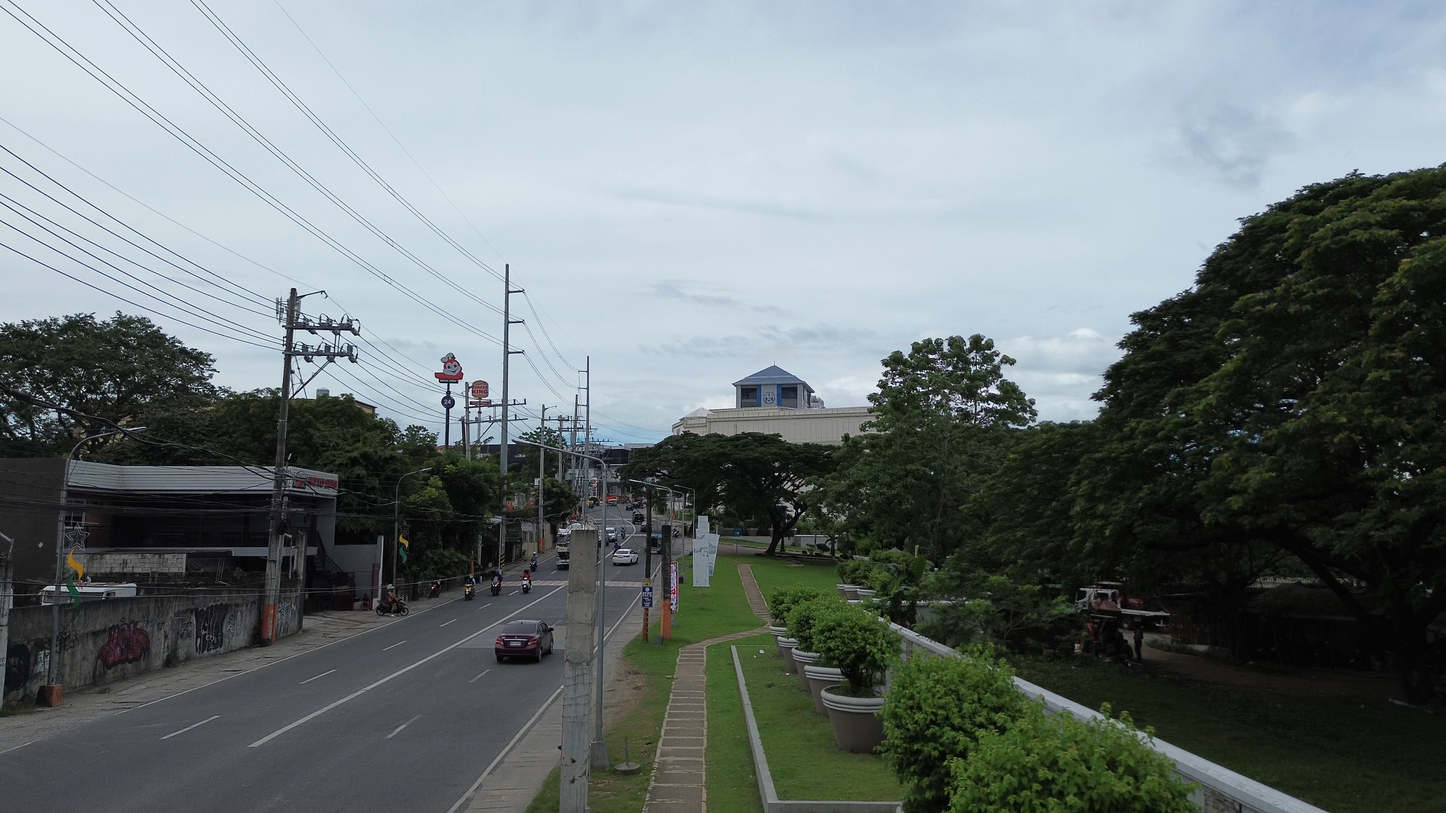car: (494, 620, 553, 662), (612, 548, 639, 565), (606, 527, 617, 542)
motorcycle: (375, 599, 409, 616), (491, 576, 502, 596), (429, 580, 441, 598), (463, 583, 474, 600), (522, 572, 531, 592), (529, 554, 538, 572)
vehicle: (41, 582, 137, 604), (375, 598, 409, 616), (555, 535, 570, 569), (521, 571, 531, 594), (491, 576, 502, 596), (631, 511, 645, 524), (606, 527, 618, 542), (529, 553, 538, 572)
